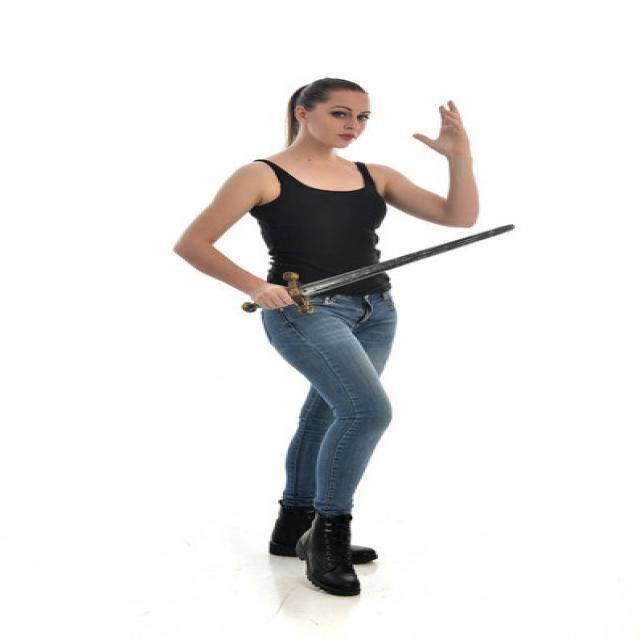long sword: (241, 216, 515, 322)
